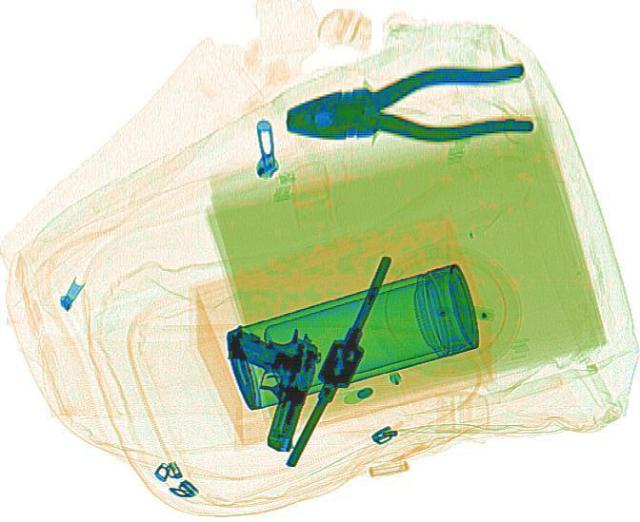Gun: (194, 314, 328, 451)
Pliers: (276, 55, 536, 158)
